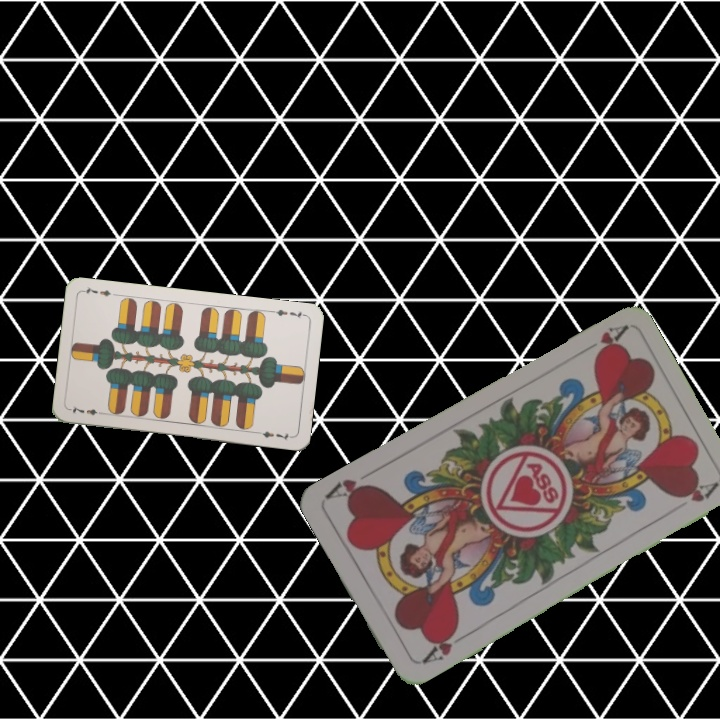E7: (66, 402, 107, 418), (267, 305, 308, 321)
HA: (574, 321, 629, 362), (417, 623, 469, 666)
